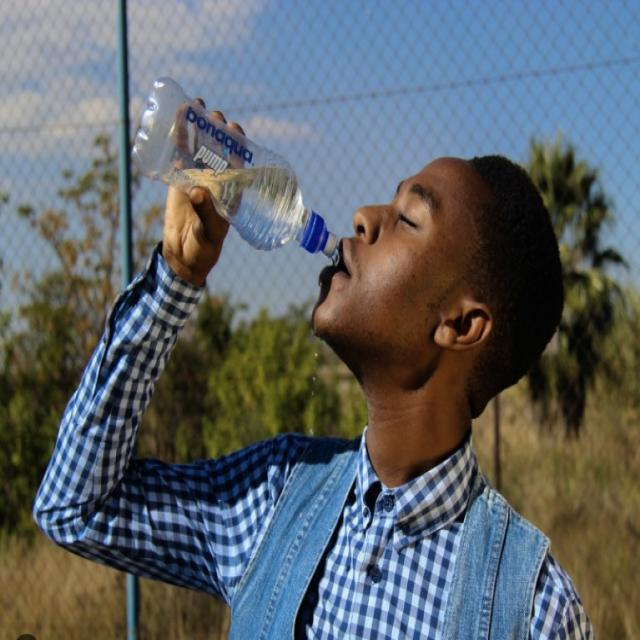eating-person: (27, 74, 600, 640)
